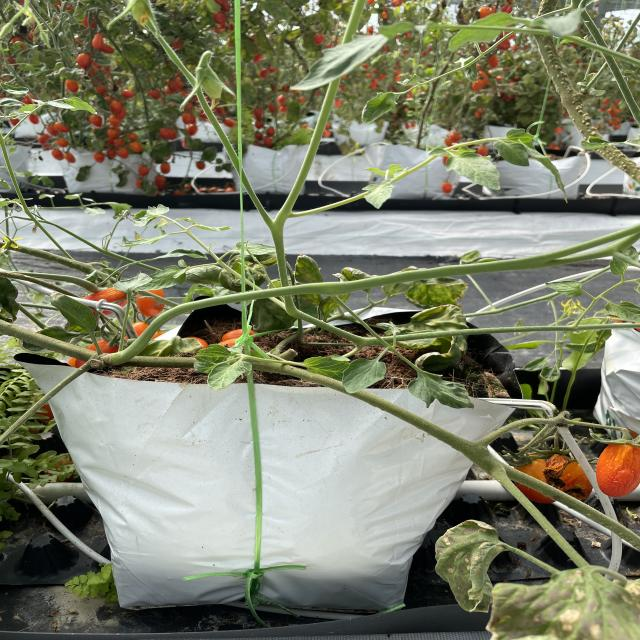Obstacle: (449, 390, 622, 585)
Soilbag: (33, 361, 511, 608)
plant: (41, 15, 486, 376)
